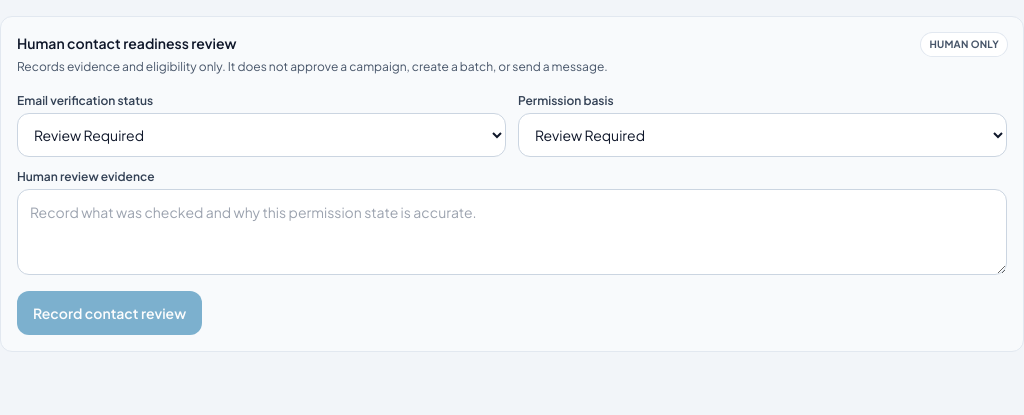
Test: ProspectContactabilityReview › shows a failed review and permits a corrected retry
Replace the text in the text box labelled "Human review evidence" with "First review attempt." at (512, 232), box [17,189,1007,275]
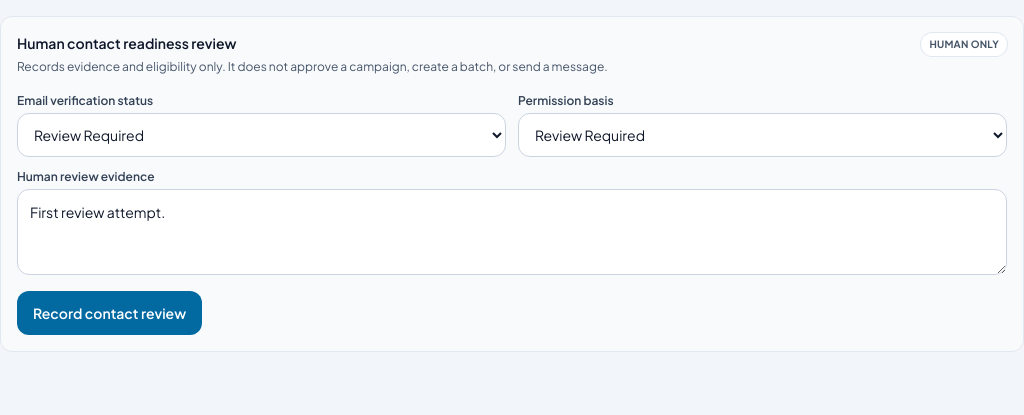
Click the button "Record contact review" at (110, 313), box [17,291,202,335]
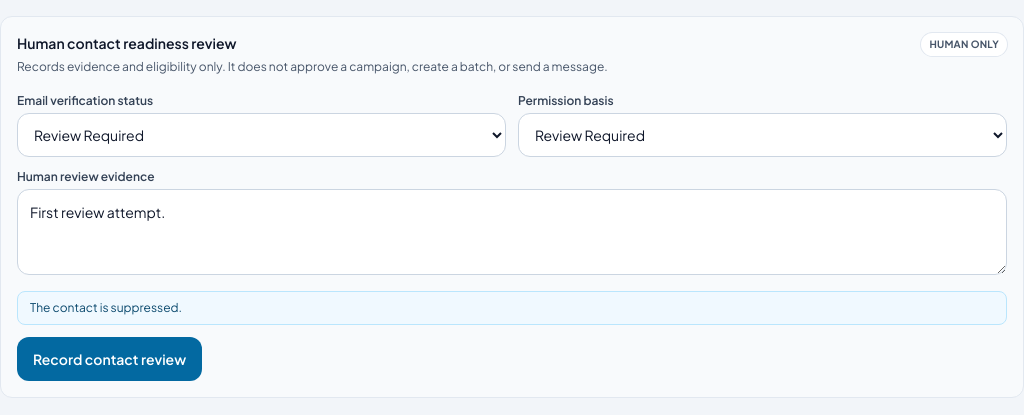
Result: the message reads "The contact is suppressed." at [30,300,182,315]
Replace the text in the text box labelled "Human review evidence" with "Corrected review evidence." at (512, 232), box [17,189,1007,275]
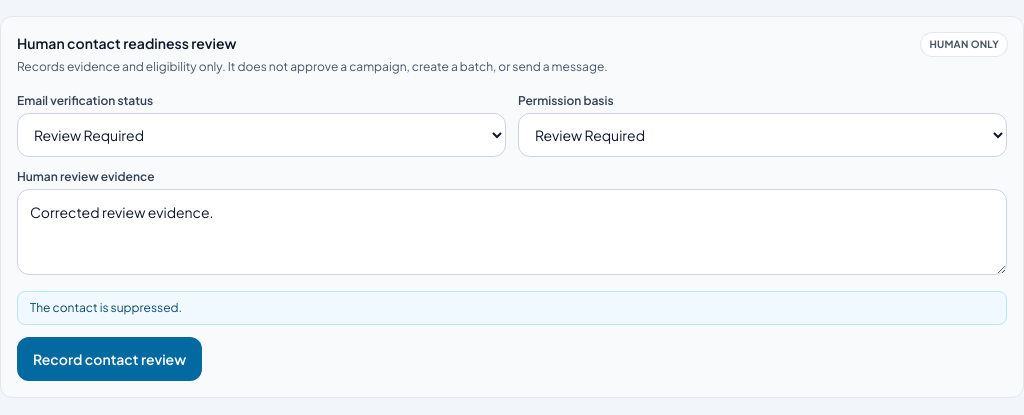
Click the button "Record contact review" at (110, 359), box [17,337,202,381]
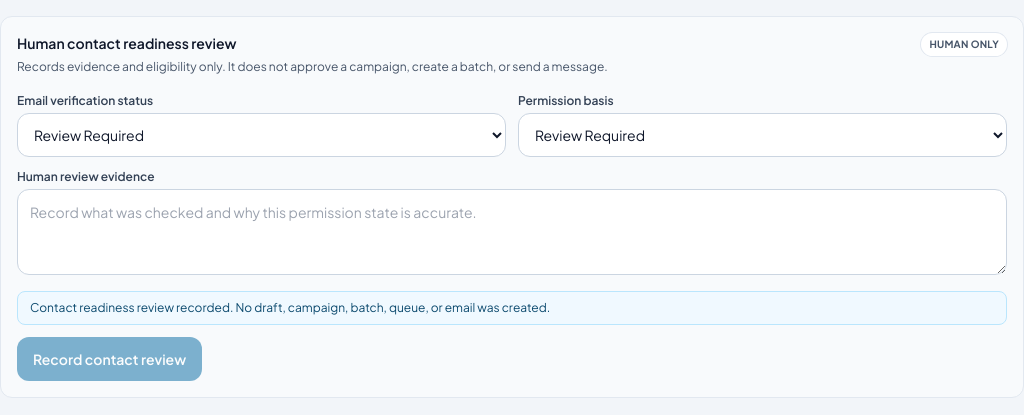
Result: the message shows "No draft, campaign, batch, queue, or email was created." at [30,300,550,315]
